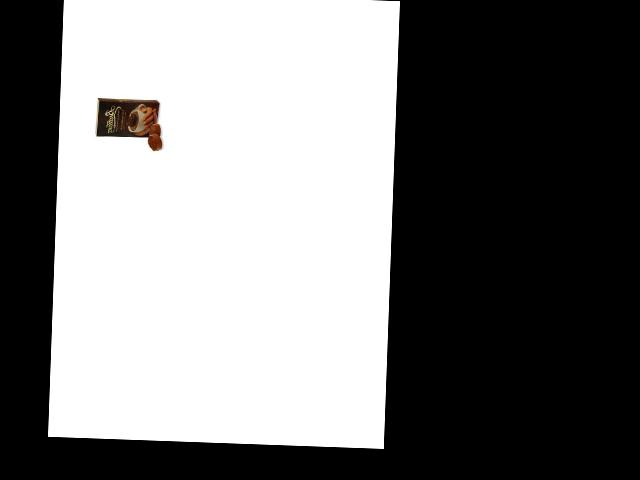chocolate: (93, 95, 161, 144)
